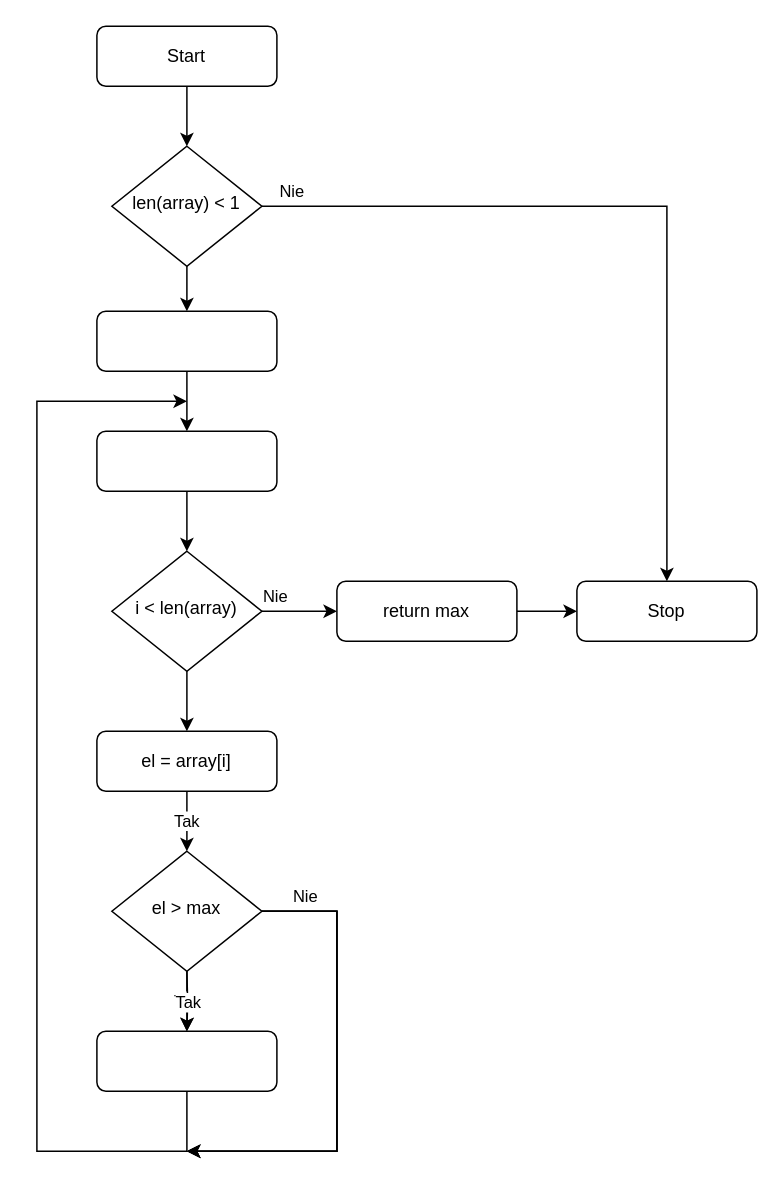
Image size: 783x1190. Some labels were removed from this diagram. Here are the shapes that lost their labels. From the top down, the centre of each, then its label:
the point at 186,340: max = array[0] i = 0
the point at 186,460: i += 1
the point at 186,1060: max = el
